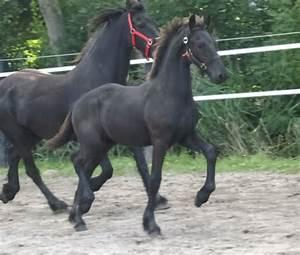horse: (35, 12, 231, 237), (0, 0, 163, 214)
